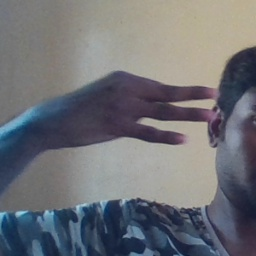K: (47, 66, 220, 149)
